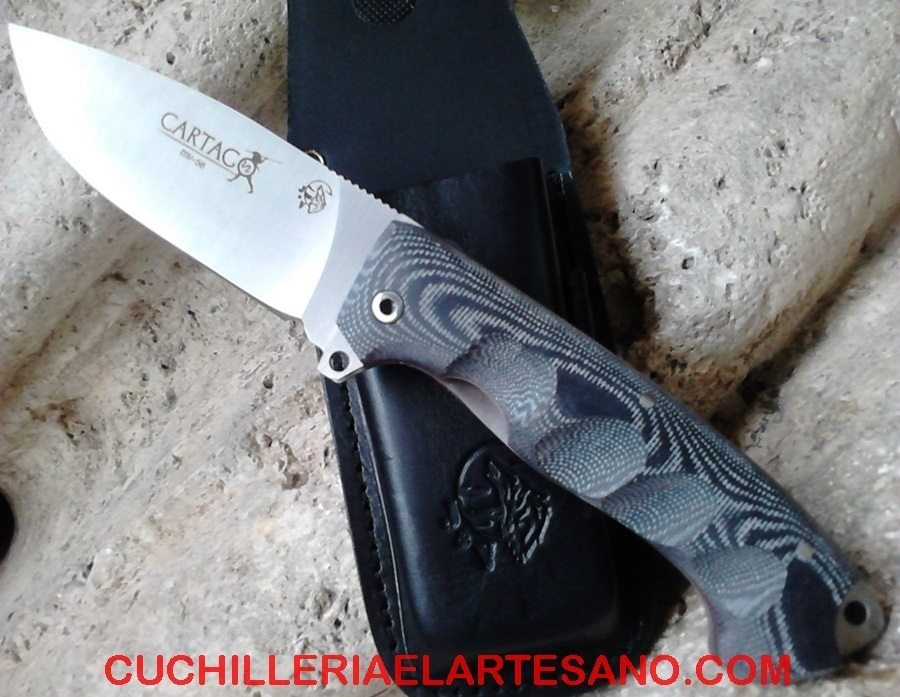knife: (1, 15, 403, 333)
